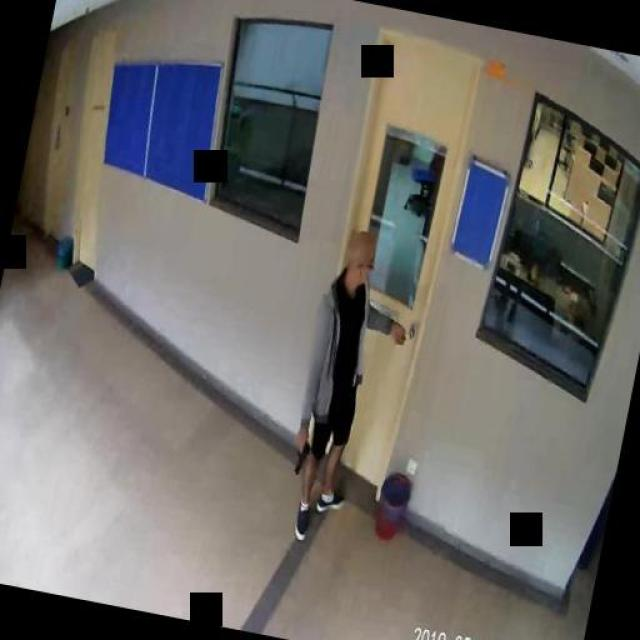gun: (290, 437, 310, 475)
